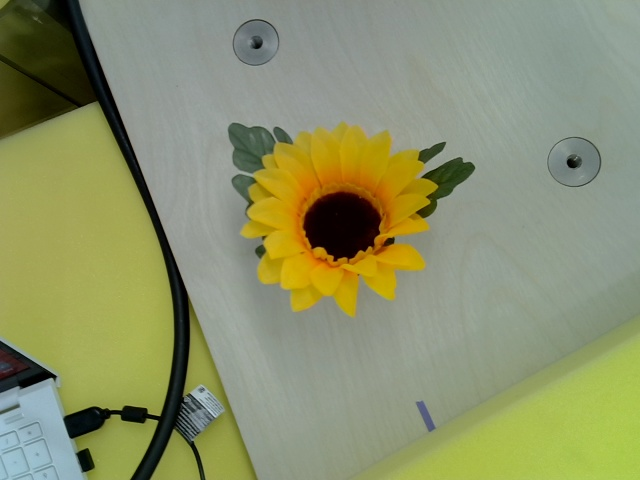해바라기: (239, 122, 436, 318)
